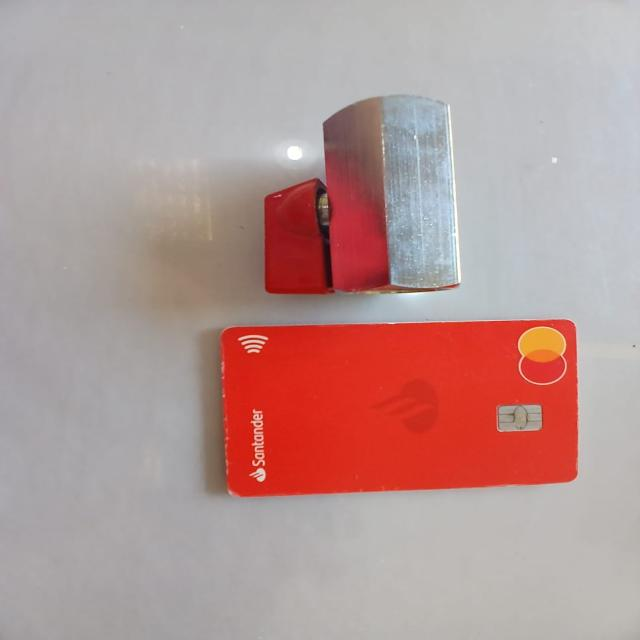cartao: (217, 319, 588, 498)
rosca_interna: (260, 95, 462, 298)
